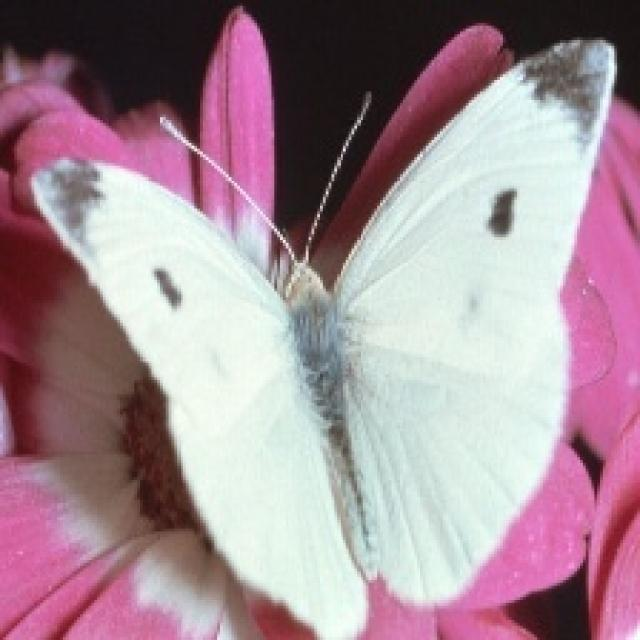butterfly: (26, 20, 617, 637)
